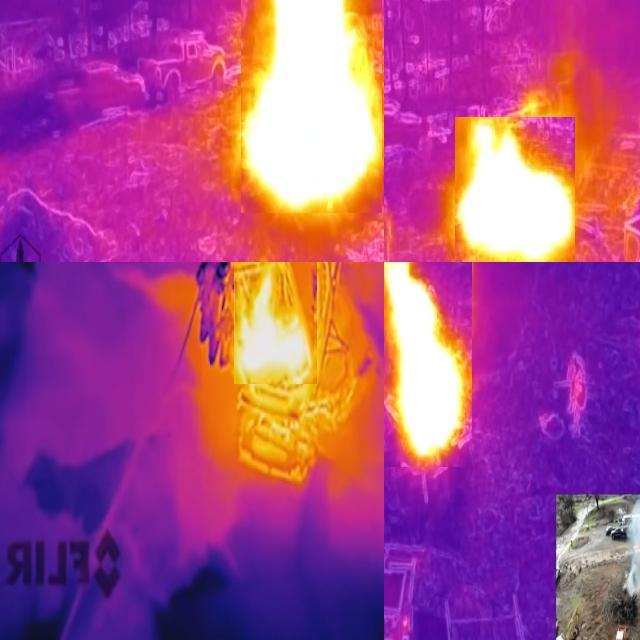fire: (242, 1, 383, 214), (385, 263, 473, 468), (456, 118, 576, 263), (235, 263, 318, 385)
